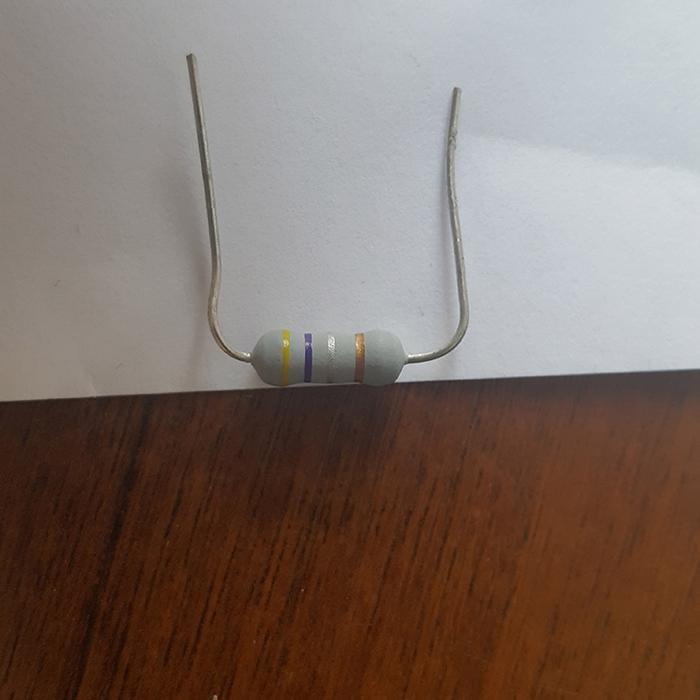resistor: (253, 328, 404, 387)
